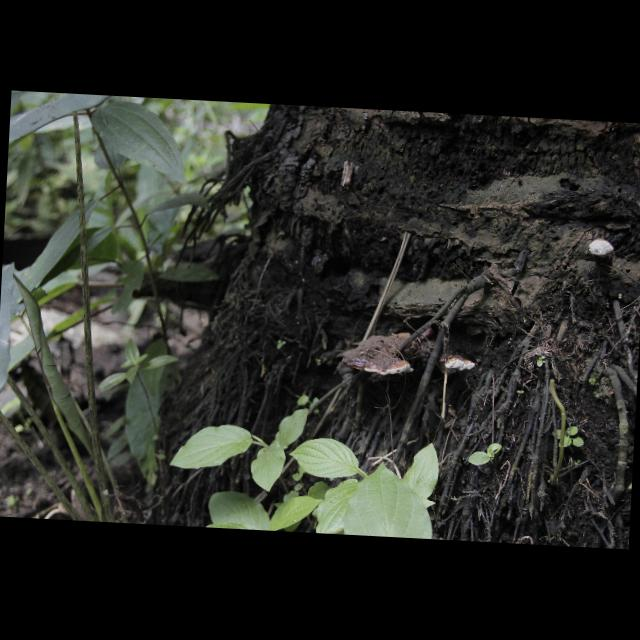ganoderma: (343, 330, 417, 378), (439, 354, 477, 373)
primordium: (589, 240, 615, 260)
